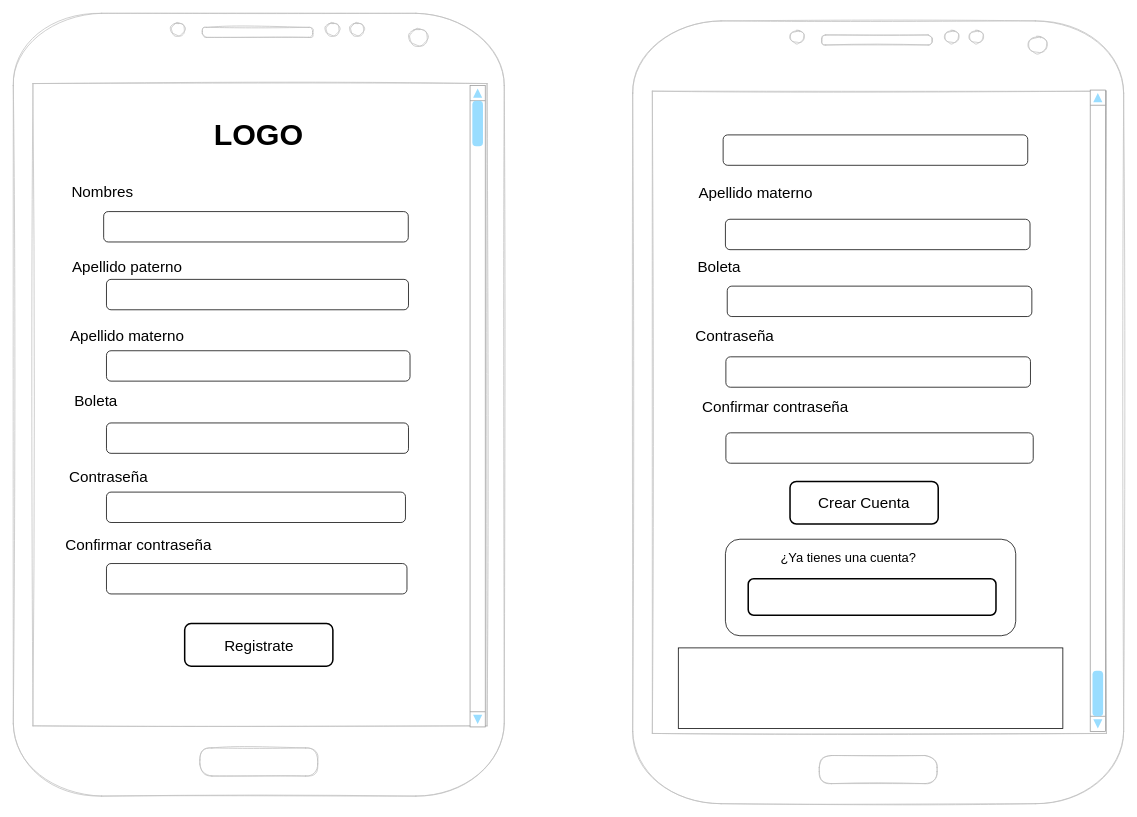
Image size: 1137x817. Some labels were removed from this diagram. Each missing label, with the centre of its shape:
"Footer" belongs at [870,687].
"Iniciar Sesión" belongs at [871,597].
